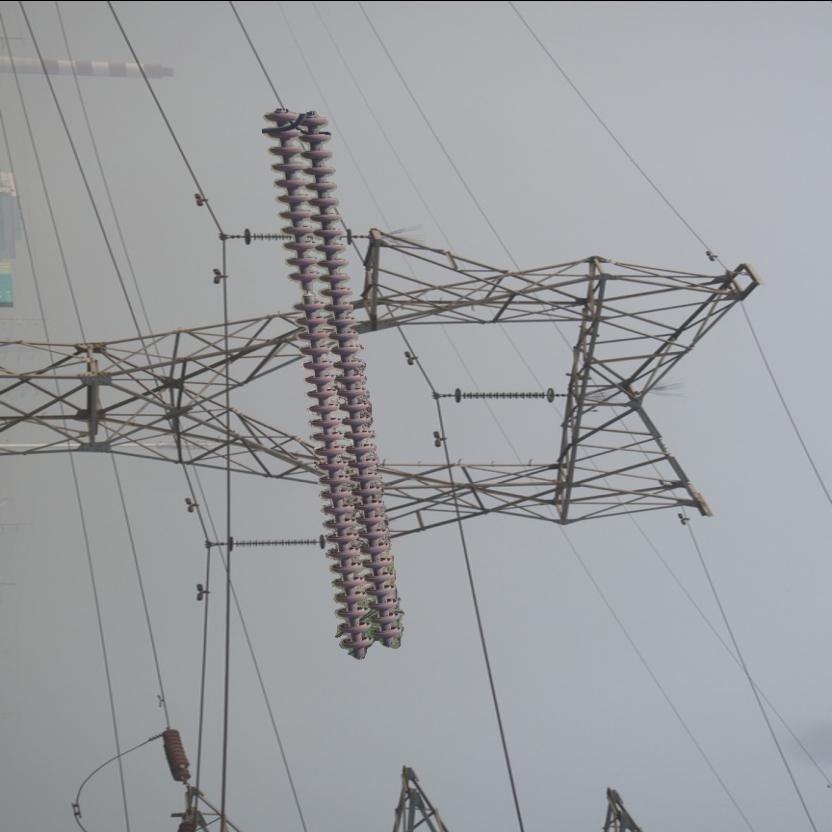defect: (288, 266, 330, 316)
